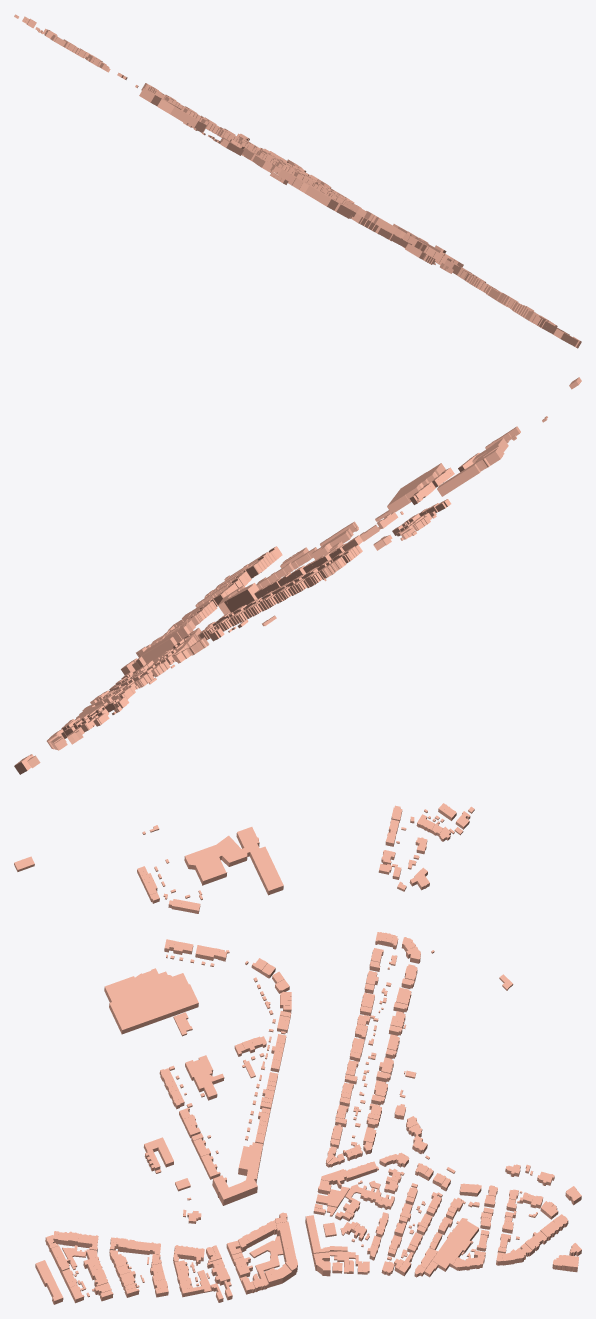
The picture shows the model from 3 angles, top to bottom: view 1: azimuth 30°, elevation 25°; view 2: azimuth 150°, elevation 25°; view 3: azimuth 270°, elevation 25°; orthographic projection. The views are drawn at different scales.
Bounding box in the file's own units: 524 × 386 × 638.
